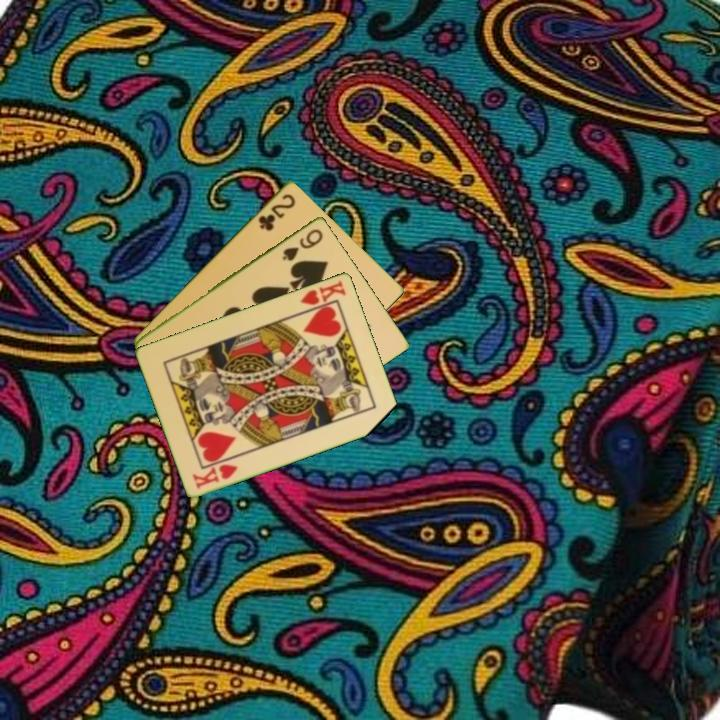2c: (255, 190, 298, 234)
9s: (279, 225, 326, 264)
Kh: (297, 276, 349, 315), (189, 460, 241, 492)
